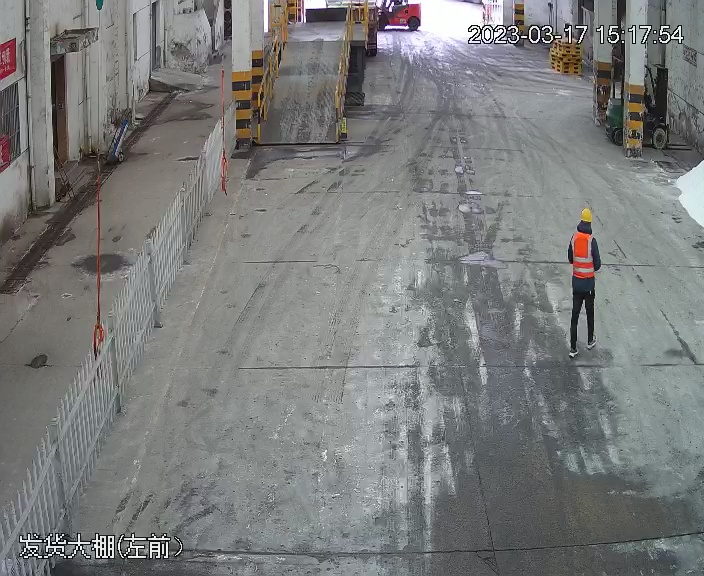head: (567, 207, 599, 251)
helmet: (579, 207, 593, 222)
people: (563, 205, 603, 355)
